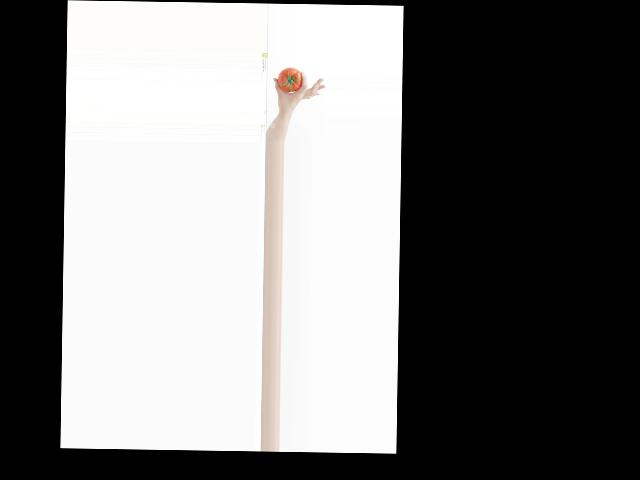tomato: (277, 67, 302, 92)
